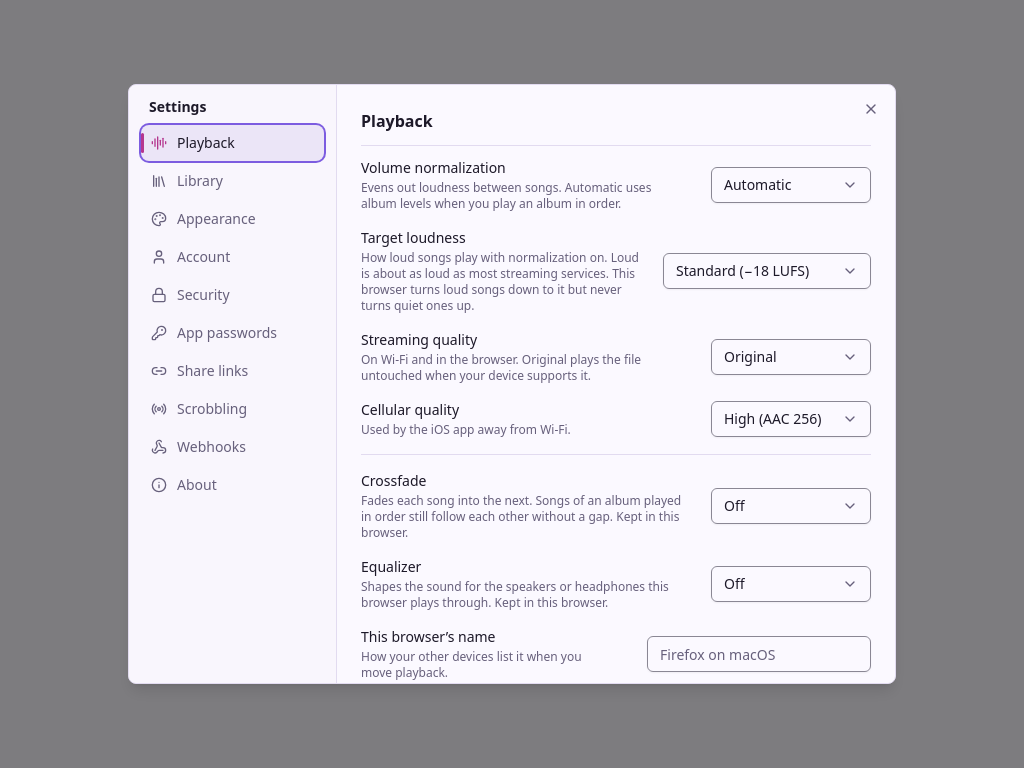
Scenario: SettingsDialog › switches to Scrobbling
Click the button "Scrobbling".
click(232, 409)  # box [141, 391, 324, 427]
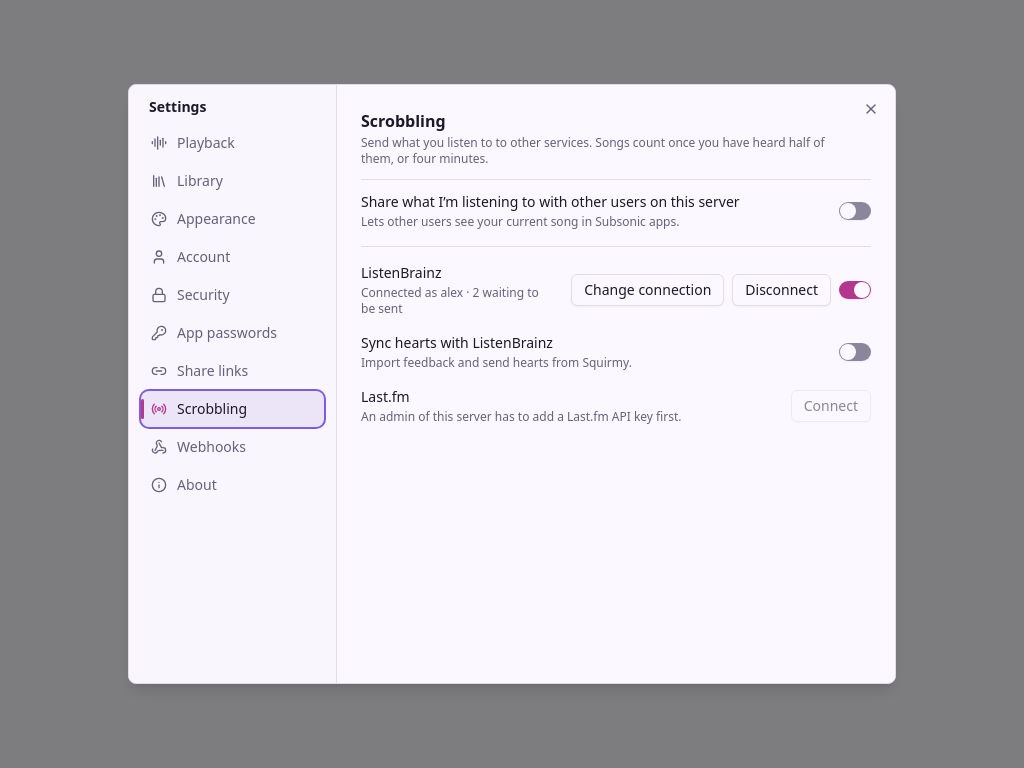
Check: the button "Scrobbling" is marked as current, box [141, 391, 324, 427]
